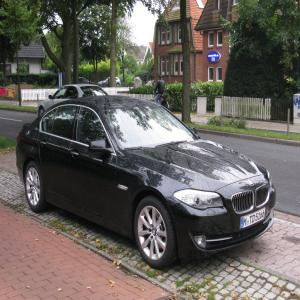Vehicle-registration-plate: (240, 207, 267, 231)
